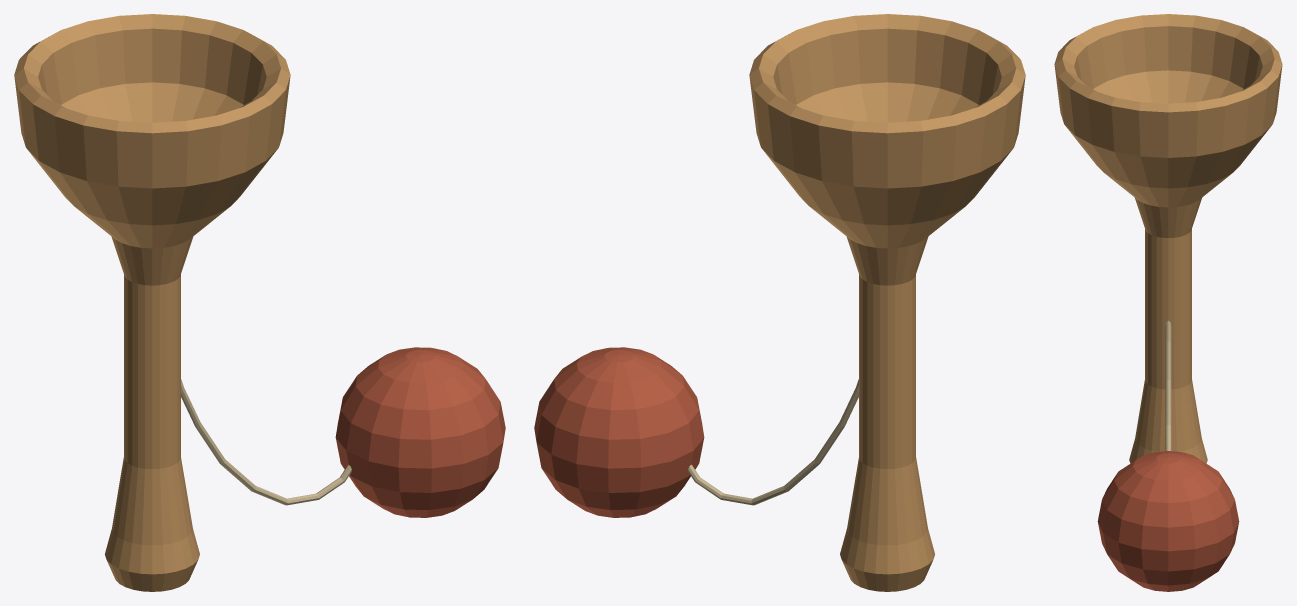
3 views of the same model, side by side, from view 1: azimuth 30°, elevation 25°; view 2: azimuth 150°, elevation 25°; view 3: azimuth 270°, elevation 25° (orthographic). The views are drawn at different scales.
Parts seen in each view (by area): view 1: ContinuousOpenCupAndLongGrip, RestingFacetedWoodBall, SaggingFiniteAttachmentCord; view 2: ContinuousOpenCupAndLongGrip, RestingFacetedWoodBall, SaggingFiniteAttachmentCord; view 3: ContinuousOpenCupAndLongGrip, RestingFacetedWoodBall, SaggingFiniteAttachmentCord.
Boxes of the visible parts, x1=… form: ContinuousOpenCupAndLongGrip: x1=14, y1=14, x2=290, y2=591; RestingFacetedWoodBall: x1=335, y1=347, x2=505, y2=517; SaggingFiniteAttachmentCord: x1=181, y1=379, x2=351, y2=505; ContinuousOpenCupAndLongGrip: x1=749, y1=14, x2=1025, y2=591; RestingFacetedWoodBall: x1=534, y1=347, x2=704, y2=517; SaggingFiniteAttachmentCord: x1=688, y1=379, x2=858, y2=505; ContinuousOpenCupAndLongGrip: x1=1054, y1=14, x2=1282, y2=463; RestingFacetedWoodBall: x1=1097, y1=451, x2=1239, y2=591; SaggingFiniteAttachmentCord: x1=1165, y1=320, x2=1171, y2=450.
Size of the model in its own units: 0.224 by 0.235 by 0.116.
